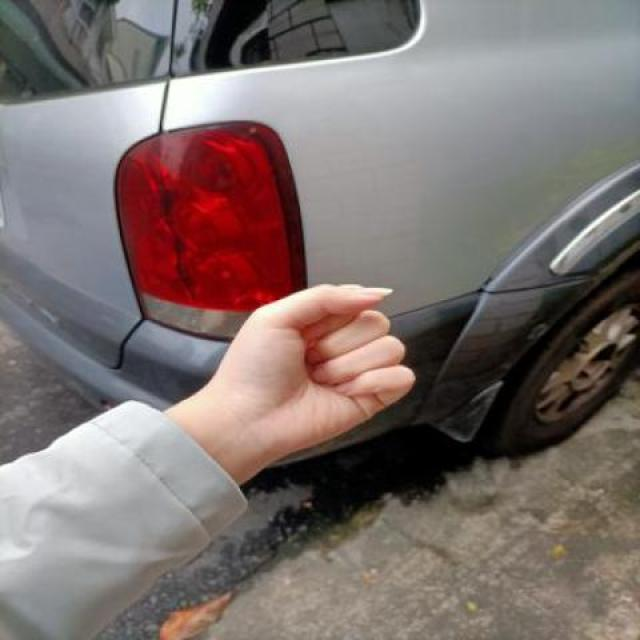Closed Hand: (220, 280, 420, 445)
